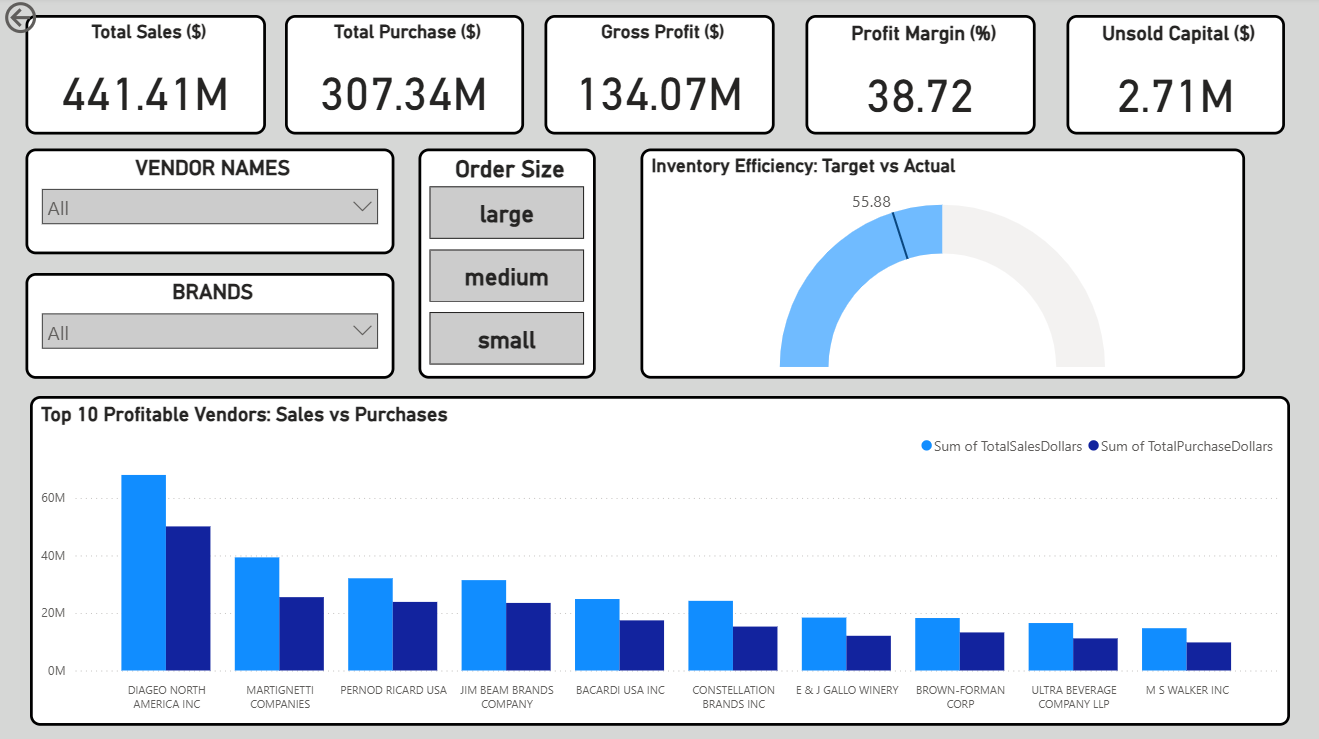

Layout of this report page (visuals, bound fields, positions):
{"tool":"powerbi","page":{"name":"Page 2","canvas":[1280,720],"ordinal":1},"visuals":[{"type":"cardVisual","title":"Total Sales ($)","fields":{"Data":["Sum(vendor_sales_summary.TotalSalesDollars)"]},"box":[24.8,17.1,233.6,116],"z":0},{"type":"cardVisual","title":"Total Purchase ($)","fields":{"Data":["Sum(vendor_sales_summary.TotalPurchaseDollars)"]},"box":[276.6,17.1,231.9,116],"z":1000},{"type":"cardVisual","title":"Gross Profit ($)","fields":{"Data":["Sum(vendor_sales_summary.GrossProfit)"]},"box":[528.4,17.1,223.6,116],"z":2000},{"type":"cardVisual","title":"Profit Margin (%)","fields":{"Data":["Avg(vendor_sales_summary.ProfitMargin)"]},"box":[781.9,17.1,223.6,116],"z":3000},{"type":"cardVisual","title":"Unsold Capital ($)","fields":{"Data":["Sum(vendor_sales_summary.UnsoldCapital)"]},"box":[1035.3,17.1,212,116],"z":4000},{"type":"slicer","title":"BRANDS","fields":{"Values":["vendor_sales_summary.Description"]},"box":[24.8,268.3,357.8,102.7],"z":5000},{"type":"slicer","title":"VENDOR NAMES","fields":{"Values":["vendor_sales_summary.VendorName"]},"box":[24.8,147.4,357.8,102.7],"z":6000},{"type":"actionButton","box":[0,0,100,40],"z":7000},{"type":"advancedSlicerVisual","title":"Order Size","fields":{"Values":["vendor_sales_summary.OrderSize"]},"box":[405.8,147.4,172.3,223.6],"z":8000},{"type":"clusteredColumnChart","title":"Top 10 Profitable Vendors: Sales vs Purchases","fields":{"Category":["vendor_sales_summary.VendorName"],"Y":["Sum(vendor_sales_summary.TotalSalesDollars)","Sum(vendor_sales_summary.TotalPurchaseDollars)"]},"box":[29.8,387.6,1222.5,319.7],"z":9000},{"type":"gauge","title":"Inventory Efficiency: Target vs Actual","fields":{"Y":["vendor_sales_summary.Inventory_vs_Sales_Ratio"],"TargetValue":["vendor_sales_summary.Target_Ratio"]},"box":[621.2,147.4,586.4,223.6],"z":10000}]}

Visuals, with their boxes in screenshot pixels (x1, y1, x2, y2), scaled from the page's 1280x720 canvas onto the 1319x739 screenshot:
"Total Sales ($)" cardVisual: 26 18 266 137
"Total Purchase ($)" cardVisual: 285 18 524 137
"Gross Profit ($)" cardVisual: 544 18 775 137
"Profit Margin (%)" cardVisual: 806 18 1036 137
"Unsold Capital ($)" cardVisual: 1067 18 1285 137
"BRANDS" slicer: 26 275 394 381
"VENDOR NAMES" slicer: 26 151 394 257
actionButton: 0 0 103 41
"Order Size" advancedSlicerVisual: 418 151 596 381
"Top 10 Profitable Vendors: Sales vs Purchases" clusteredColumnChart: 31 398 1290 726
"Inventory Efficiency: Target vs Actual" gauge: 640 151 1244 381
